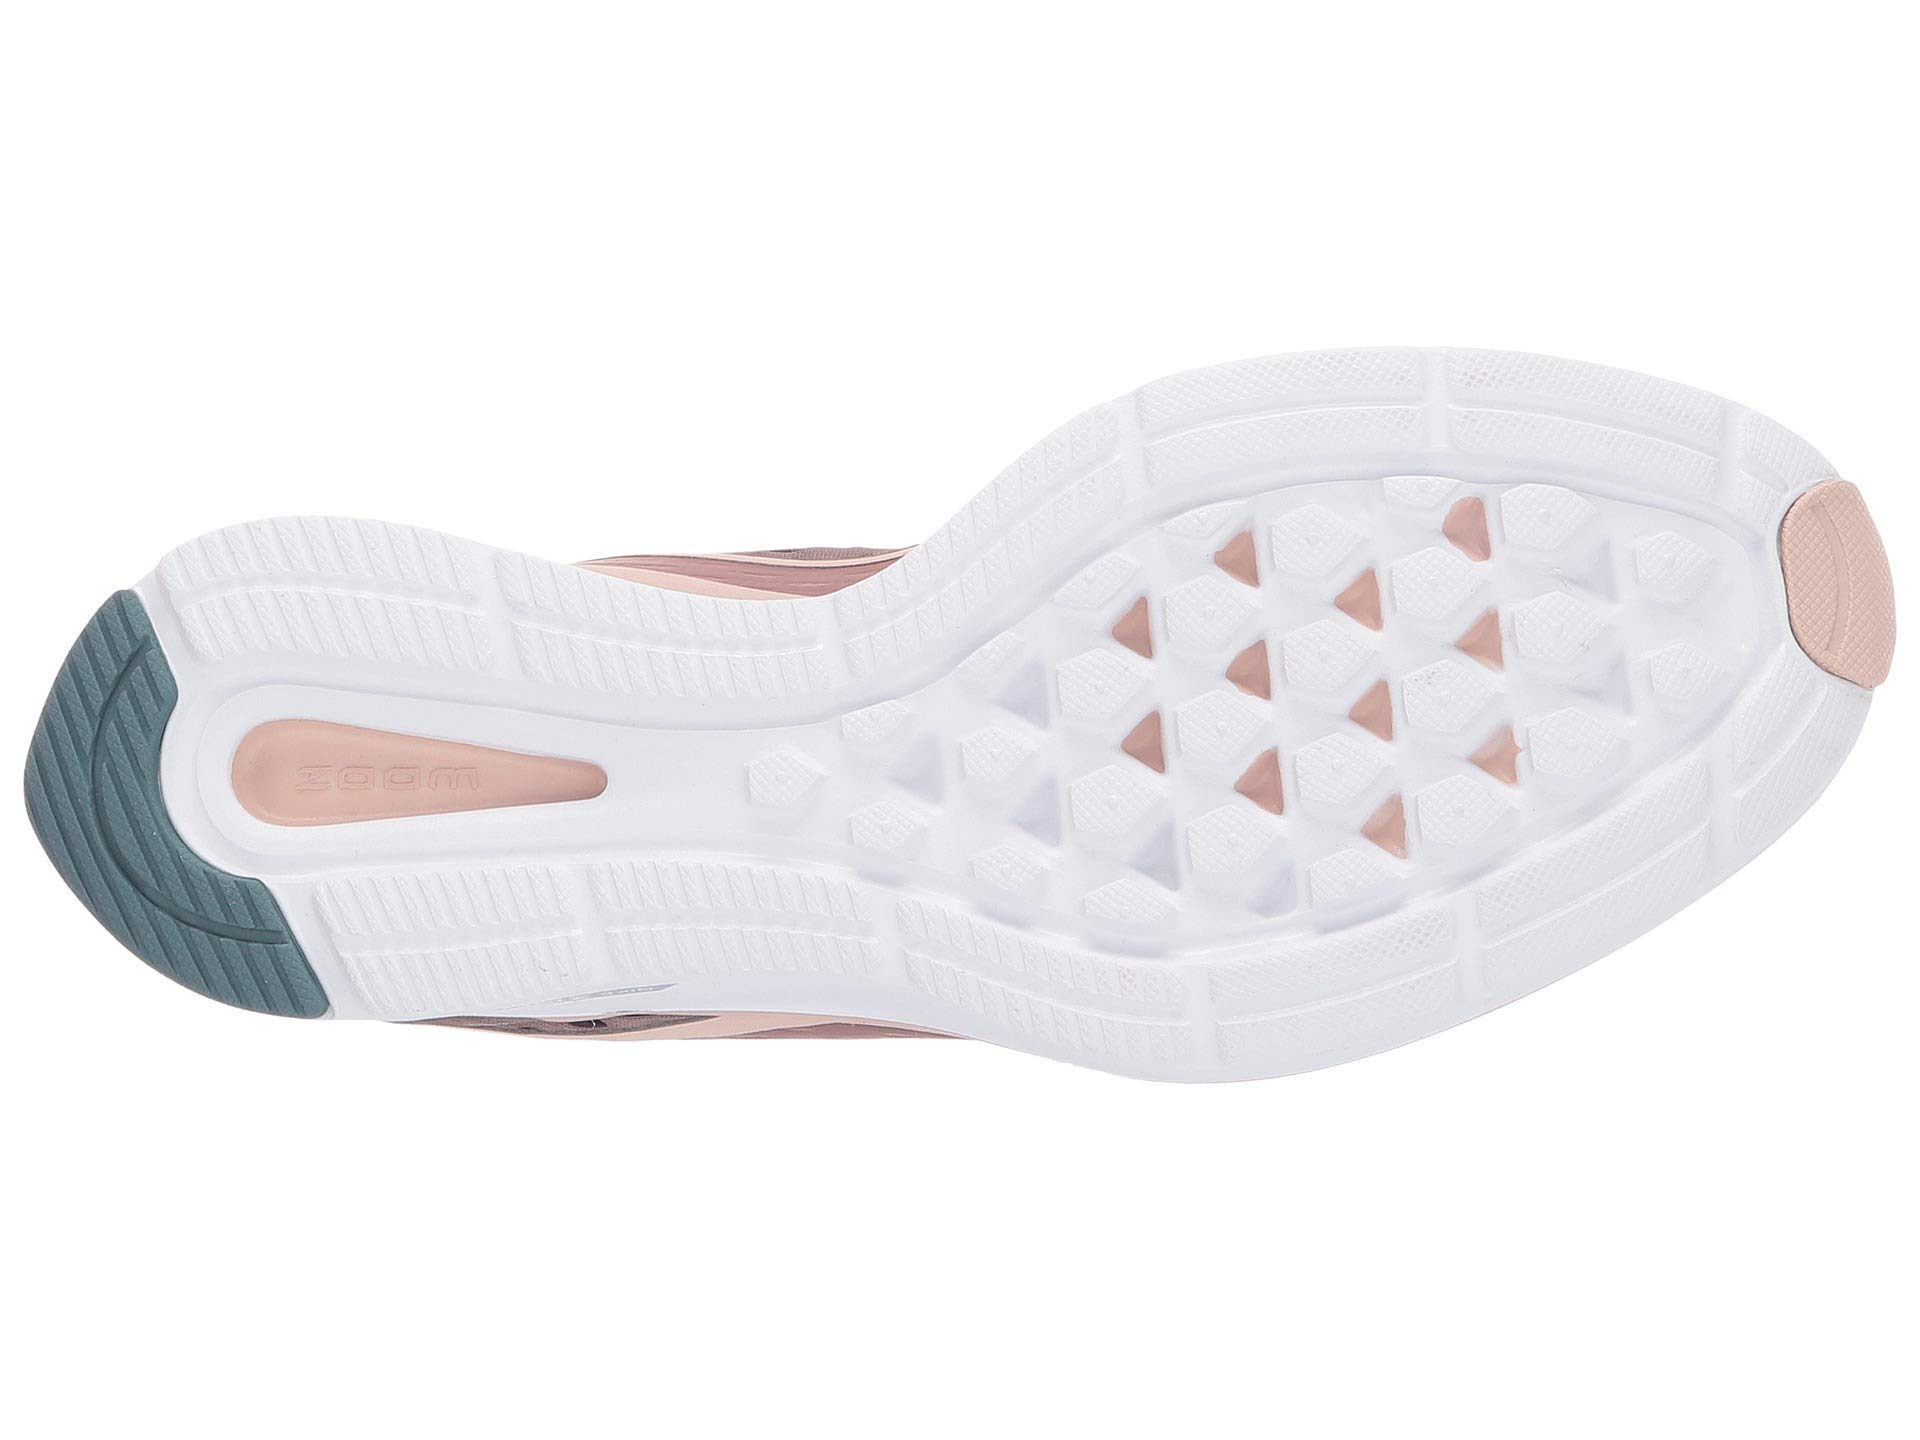circle: (1141, 525, 1550, 900), (715, 644, 1084, 970), (1423, 313, 1734, 623)
line: (56, 573, 567, 1104)
polygon: (1141, 525, 1550, 900), (715, 644, 1084, 970), (1423, 313, 1734, 623)
quad: (56, 573, 567, 1104), (715, 644, 1084, 970), (1423, 313, 1734, 623)
triangle: (1141, 525, 1550, 900), (715, 644, 1084, 970), (1423, 313, 1734, 623)
